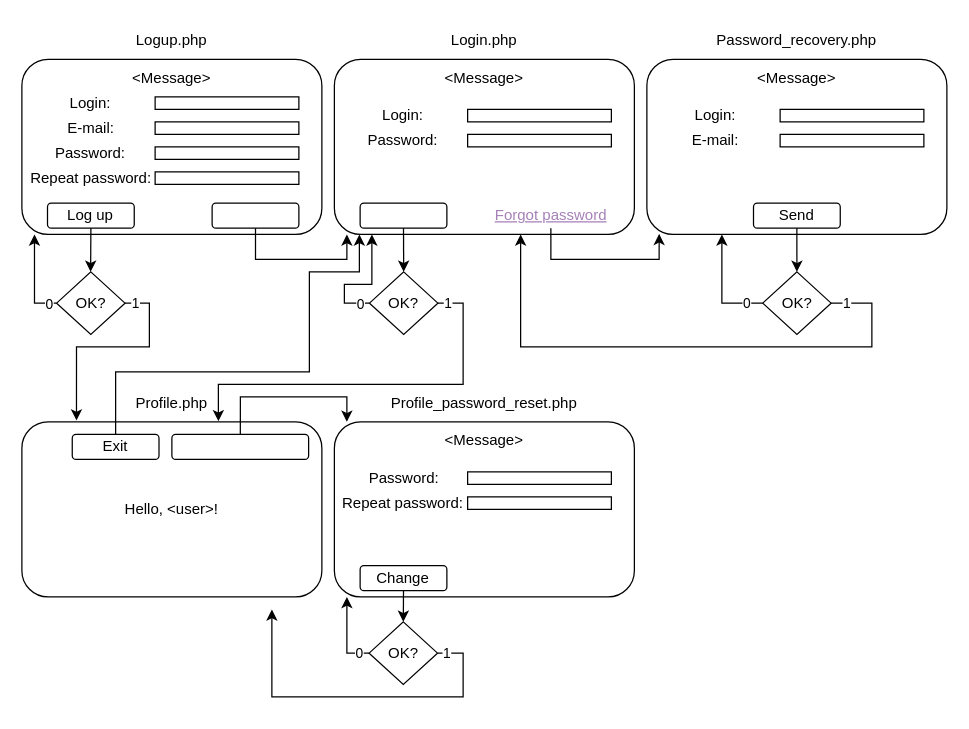
Some shapes in this 969 by 729 pixel diagram are drawn without their labels. The shapes that lost their labels are listed below. From the top down, each one's centre as x and y in pixels, then its label:
At (x=255, y=215): "Log in".
At (x=403, y=215): "Sign in".
At (x=240, y=446): "Change password".
